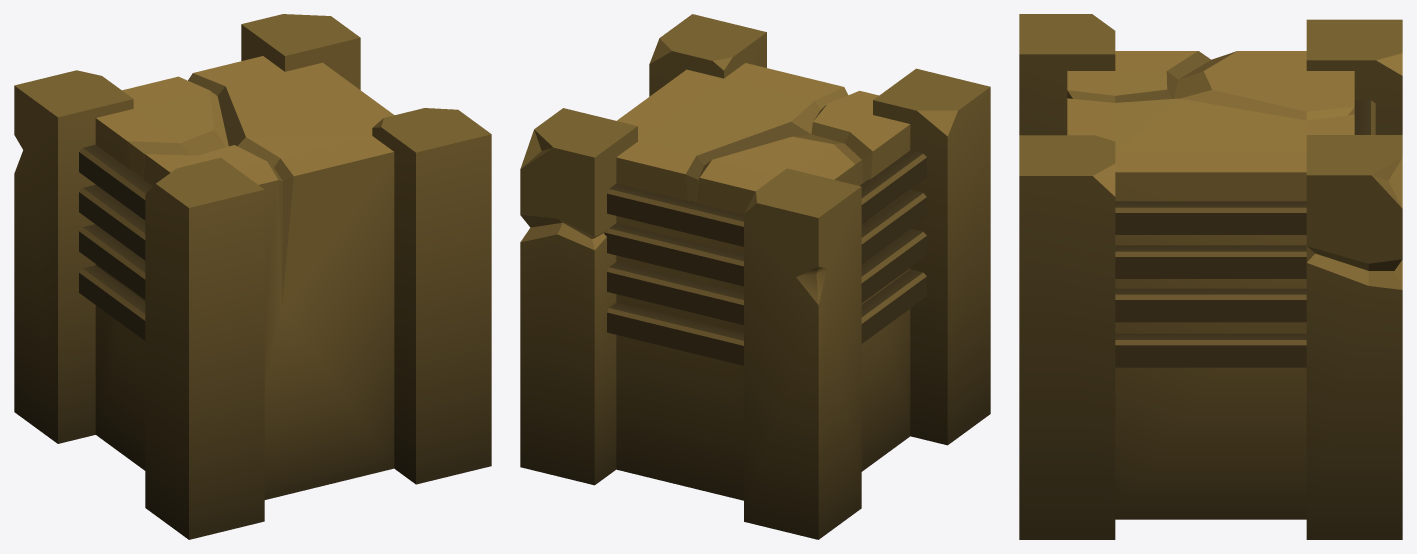
Rendered from ENV_RTS_Ruins_Elevator_01.fbx.
3 renders of one model, left to right at view 1: azimuth 30°, elevation 25°; view 2: azimuth 150°, elevation 25°; view 3: azimuth 270°, elevation 25°, orthographic. The views are drawn at different scales.
Parts seen in each view (by area): view 1: ENV_RTS_Ruins_Elevator_01; view 2: ENV_RTS_Ruins_Elevator_01; view 3: ENV_RTS_Ruins_Elevator_01.
Part boxes in pixels (x1,y1,x2,y2): ENV_RTS_Ruins_Elevator_01: (14, 14, 491, 539); ENV_RTS_Ruins_Elevator_01: (520, 14, 990, 539); ENV_RTS_Ruins_Elevator_01: (1019, 14, 1402, 539).
Size of the model in its own units: 361 by 379 by 361.
